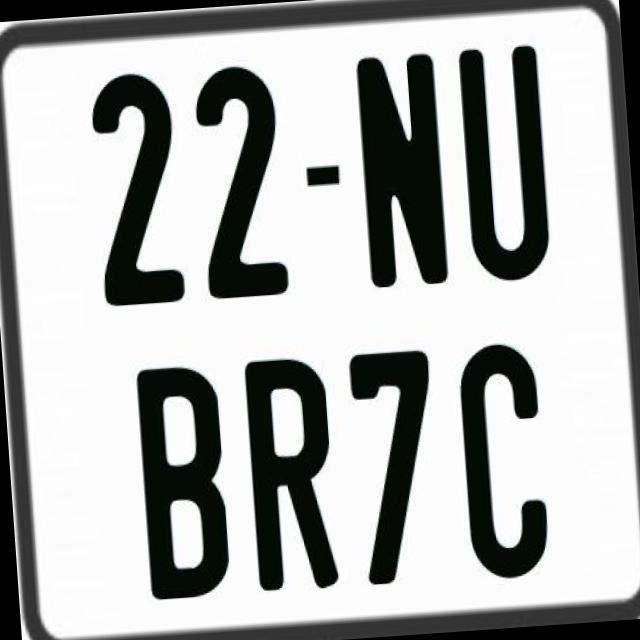2: (89, 67, 192, 312), (190, 63, 288, 300)
7: (348, 344, 446, 582)
B: (134, 364, 232, 602)
C: (456, 338, 556, 580)
N: (351, 52, 449, 296)
R: (241, 354, 342, 598)
U: (454, 42, 548, 286)
